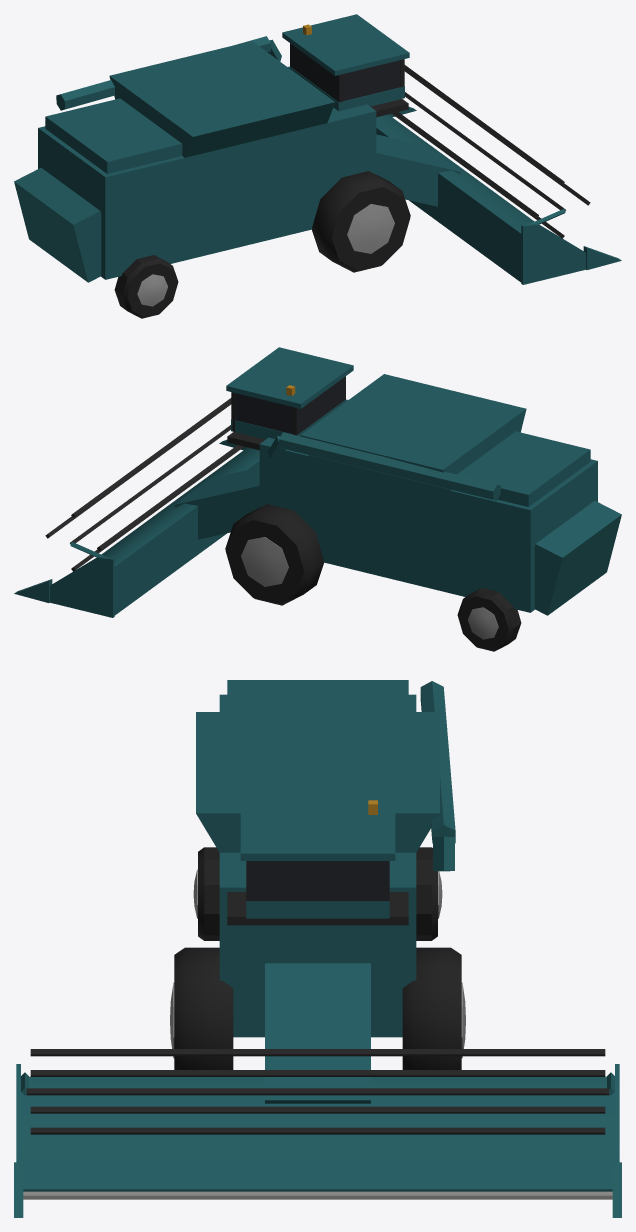
File: SM_Prop_farm_combine_0_LOD1.glb
The picture shows the model from 3 angles, top to bottom: view 1: azimuth 30°, elevation 25°; view 2: azimuth 150°, elevation 25°; view 3: azimuth 270°, elevation 25°; orthographic projection. The views are drawn at different scales.
Parts seen in each view (by area): view 1: SM_Prop_farm_combine_0_LOD1; view 2: SM_Prop_farm_combine_0_LOD1; view 3: SM_Prop_farm_combine_0_LOD1.
Boxes of the visible parts, x1,y1,x2,y2 form: SM_Prop_farm_combine_0_LOD1: (14,14,621,318); SM_Prop_farm_combine_0_LOD1: (14,347,621,651); SM_Prop_farm_combine_0_LOD1: (14,680,621,1217).
Bounding box in the file's own units: 10.15 × 4 × 7.72.
